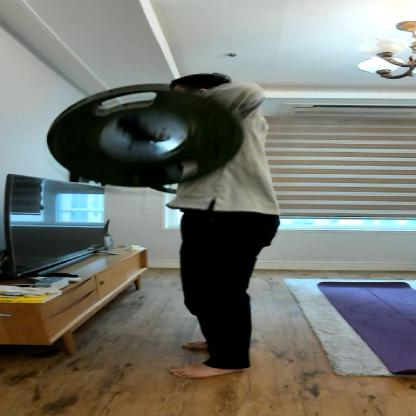Barbell: (37, 76, 255, 194)
